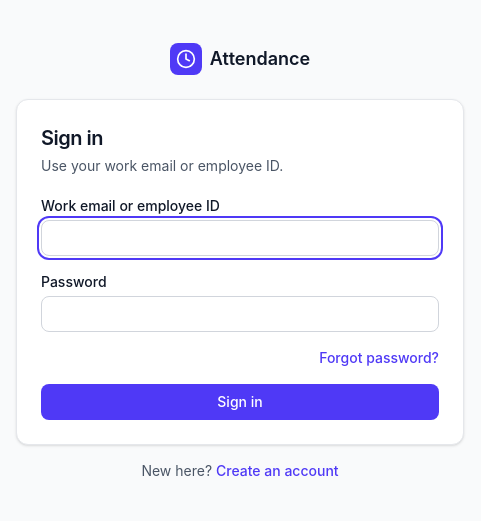
Test: LoginPage › shows the server message for lockouts / rate limits
Type "a@kxn.com" into the field labelled "Work email or employee ID". click: (240, 238)
box: left=41, top=220, right=439, bottom=256
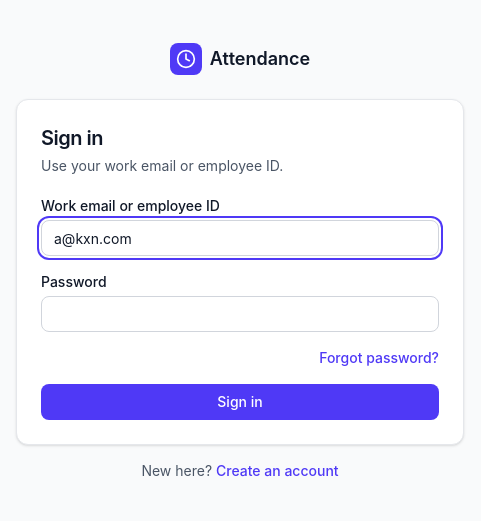
Type "x" into the password field labelled "Password". click: (240, 314)
box: left=41, top=296, right=439, bottom=332
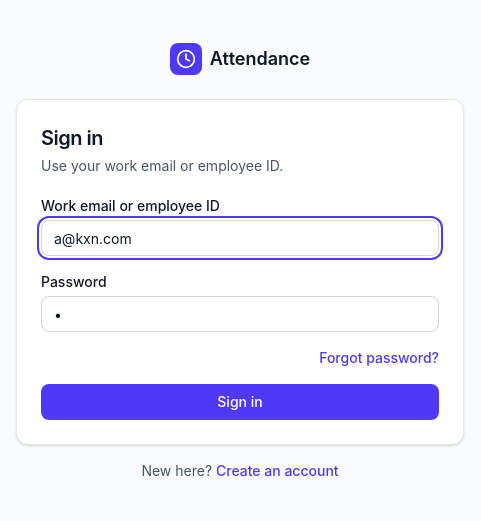
Click the button "Sign in". click: (240, 402)
box: left=41, top=384, right=439, bottom=420
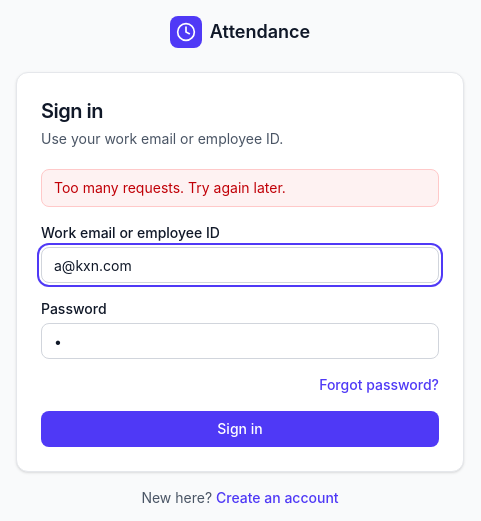
expect the text "Too many requests. Try again later." is shown: met, box left=41, top=169, right=439, bottom=207
